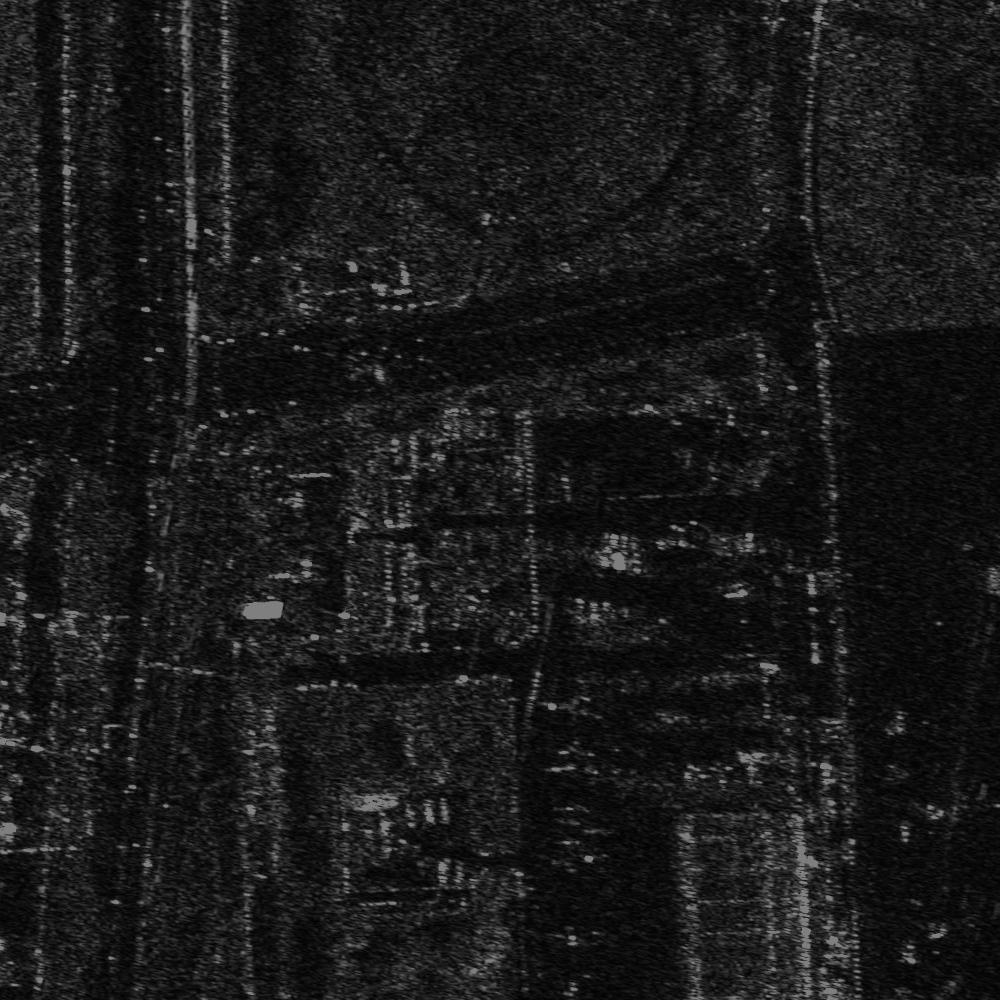A320/321: (922, 886, 999, 950)
Boeing737: (914, 776, 999, 849)
